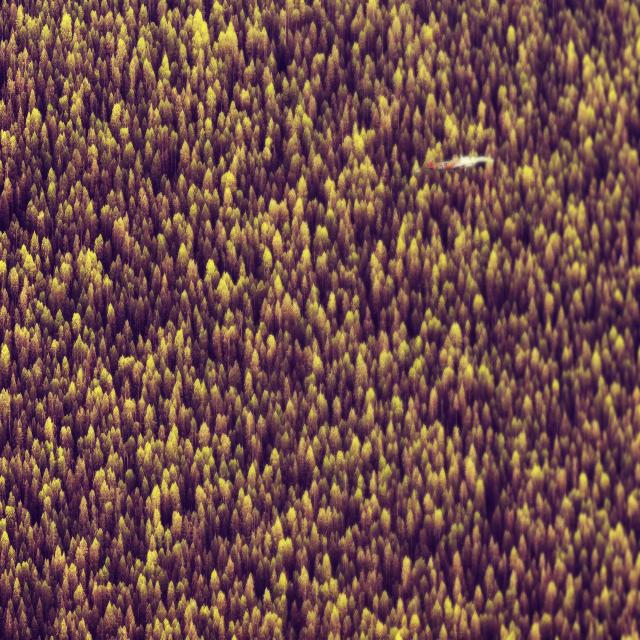airplane: (429, 151, 494, 173)
